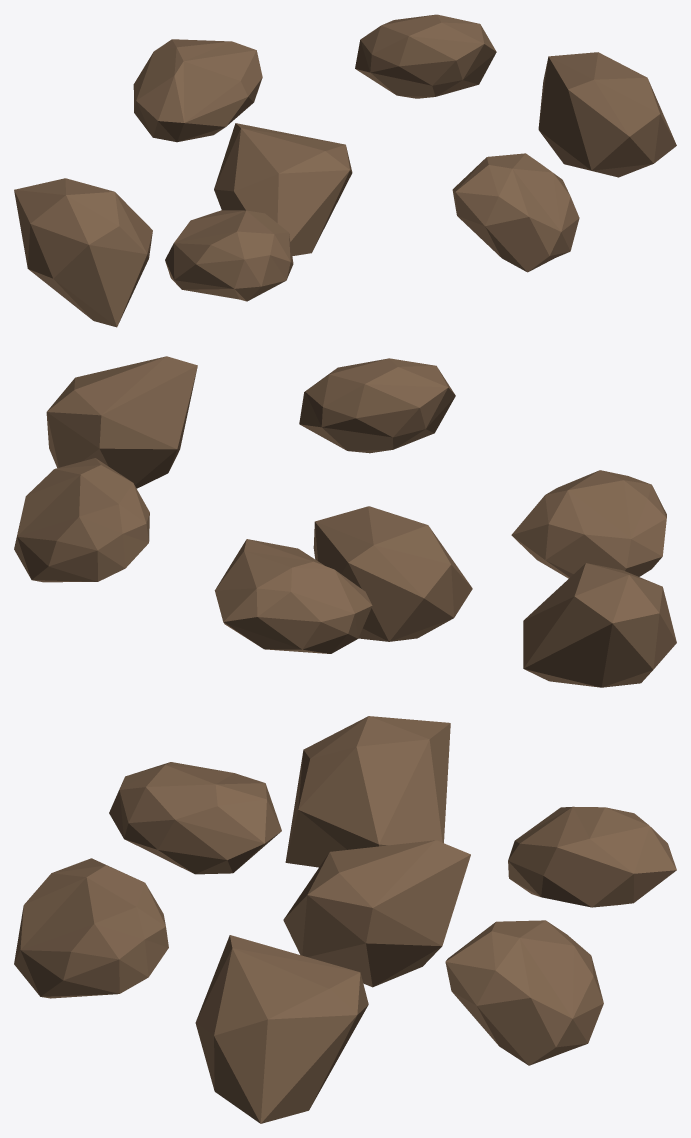
Rendered from Pebles.fbx.
The picture shows the model from 3 angles, top to bottom: view 1: azimuth 30°, elevation 25°; view 2: azimuth 150°, elevation 25°; view 3: azimuth 270°, elevation 25°; orthographic projection. The views are drawn at different scales.
Parts seen in each view (by area): view 1: Pebles; view 2: Pebles; view 3: Pebles.
Part boxes in pixels (x1=…): Pebles: x1=14, y1=14, x2=676, y2=327; Pebles: x1=14, y1=356, x2=676, y2=687; Pebles: x1=14, y1=716, x2=676, y2=1123.
Size of the model in its own units: 59.44 by 14.7 by 46.59.
